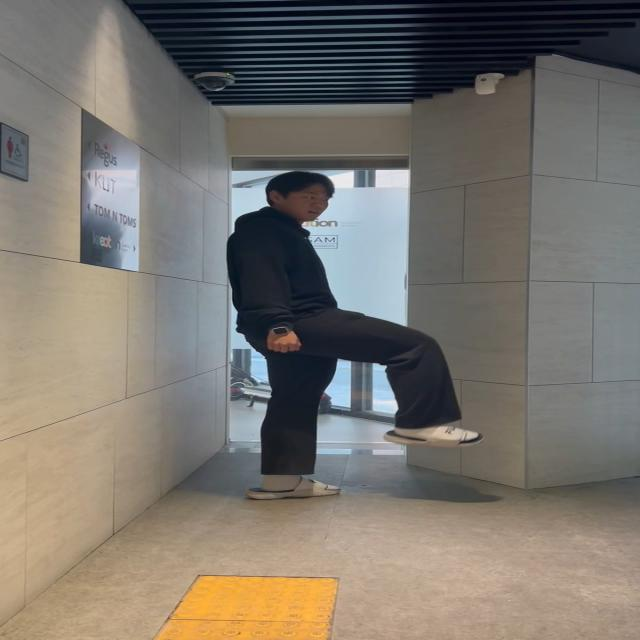knee: (256, 307, 499, 447)
